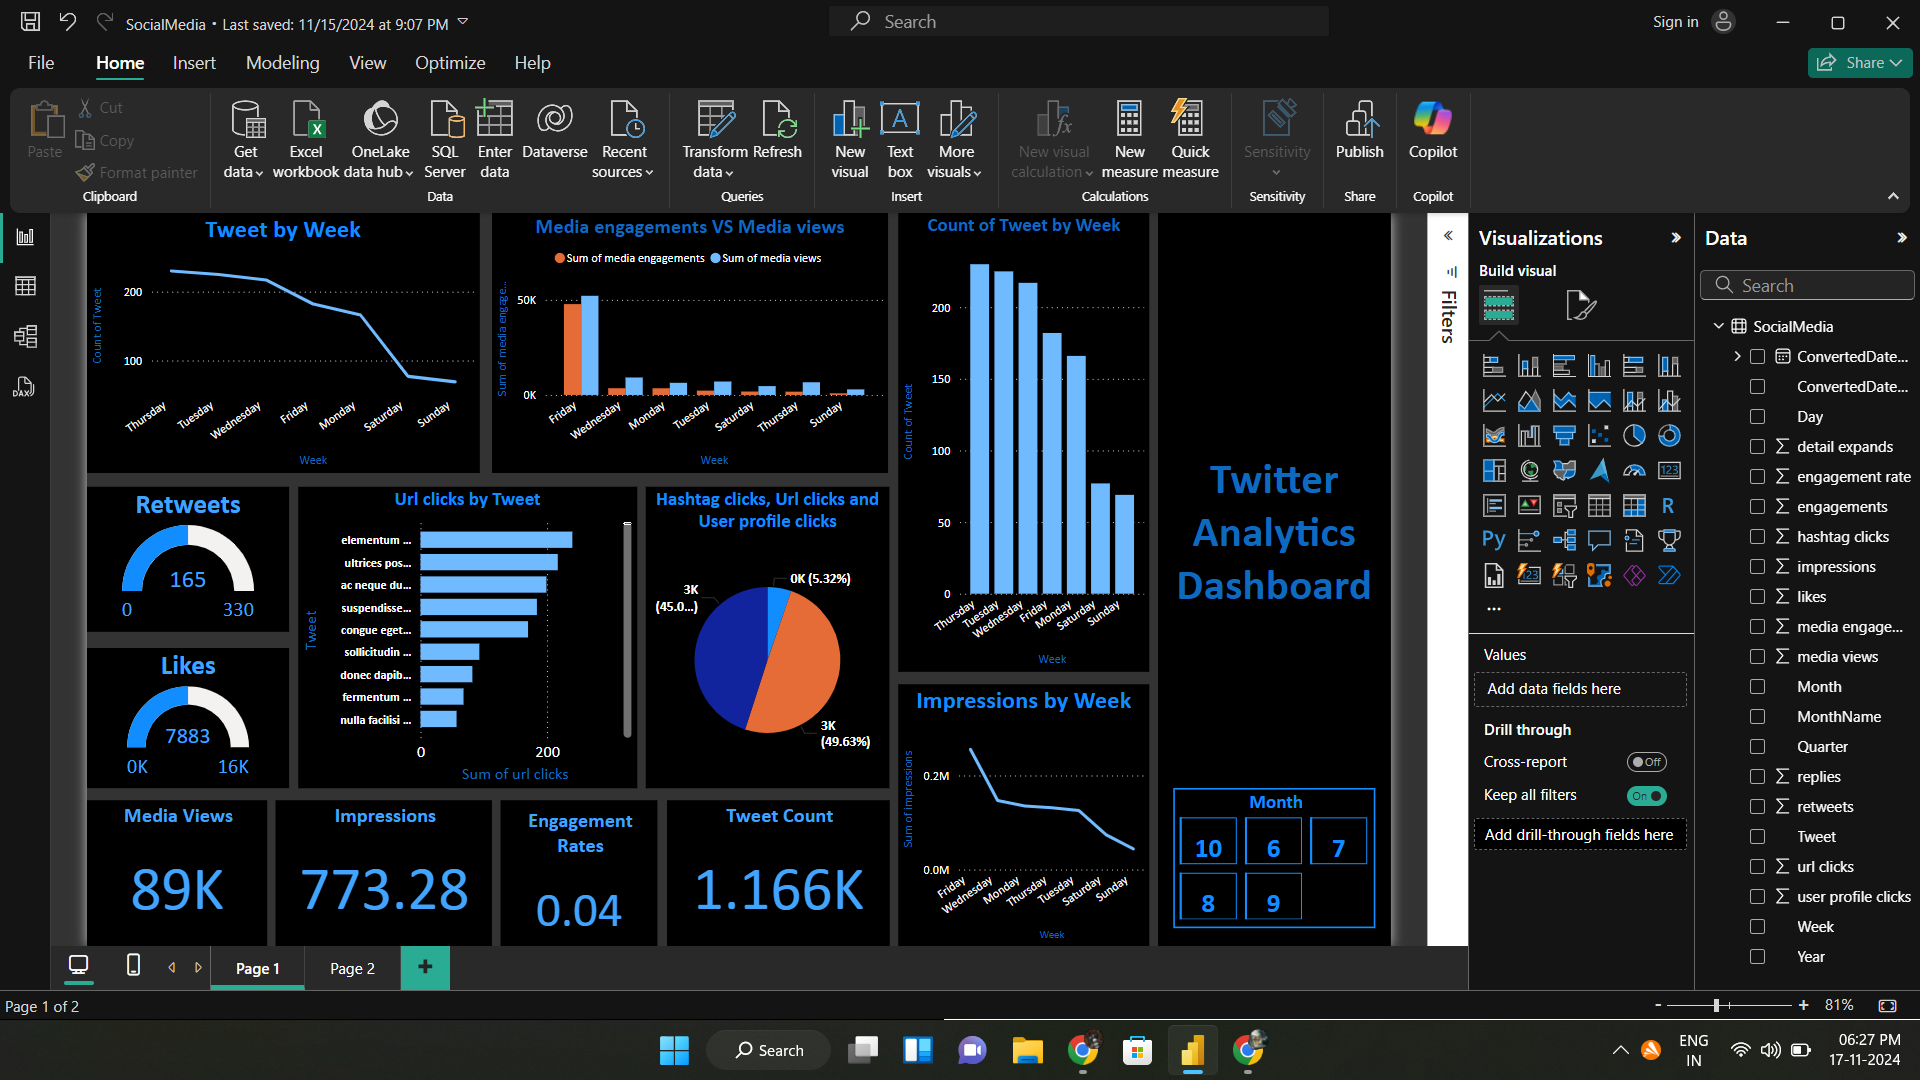

The dashboard page shown, as its layout file describes it:
{"tool":"powerbi","page":{"name":"Page 1","canvas":[1280,720],"ordinal":0},"visuals":[{"type":"textbox","box":[1051.5,0,228.2,720.2],"z":0},{"type":"cardVisual","title":"Media Views","fields":{"Data":["Sum(SocialMedia.media views)"]},"box":[0,576.7,176.7,143.6],"z":1000},{"type":"cardVisual","title":"Impressions","fields":{"Data":["CountNonNull(SocialMedia.impressions)","select"]},"box":[185.3,576.7,212.3,143.6],"z":2000},{"type":"cardVisual","title":"Engagement Rates","fields":{"Data":["Avg(SocialMedia.engagement rate)"]},"box":[406.1,576.7,153.4,143.6],"z":3000},{"type":"cardVisual","title":"Tweet Count","fields":{"Data":["CountNonNull(SocialMedia.Tweet)"]},"box":[569.3,576.7,218.4,143.6],"z":4000},{"type":"gauge","title":"Likes","fields":{"Y":["Sum(SocialMedia.likes)"]},"box":[0,427,198.8,137.4],"z":5000},{"type":"gauge","title":"Retweets","fields":{"Y":["Max(SocialMedia.retweets)"]},"box":[0,268.7,198.8,142.3],"z":6000},{"type":"slicer","title":"Month","fields":{"Values":["SocialMedia.Month"]},"box":[1066.3,479.8,198.8,84.7],"z":7000},{"type":"lineChart","title":"Tweet by Week","fields":{"Category":["SocialMedia.DayWeek"],"Y":["CountNonNull(SocialMedia.Tweet)"]},"box":[0,0,385.3,255.2],"z":8000},{"type":"lineChart","title":"Impressions by Week","fields":{"Category":["SocialMedia.DayWeek"],"Y":["Sum(SocialMedia.impressions)"]},"box":[796.3,462.6,246.6,257.7],"z":9000},{"type":"clusteredBarChart","title":"Url clicks by Tweet","fields":{"Y":["Sum(SocialMedia.url clicks)"],"Category":["SocialMedia.Tweet"]},"box":[207.4,268.7,332.5,295.7],"z":10000},{"type":"pieChart","title":"Hashtag clicks, Url clicks and User profile clicks","fields":{"Y":["Sum(SocialMedia.hashtag clicks)","Sum(SocialMedia.url clicks)","Sum(SocialMedia.user profile clicks)"]},"box":[548.5,268.7,239.3,295.7],"z":11000},{"type":"clusteredColumnChart","title":"Media engagements VS Media views ","fields":{"Category":["SocialMedia.Week"],"Y":["Sum(SocialMedia.media engagements)","Sum(SocialMedia.media views)"]},"box":[397.5,0,389,255.2],"z":12000},{"type":"clusteredColumnChart","fields":{"Category":["SocialMedia.Week"],"Y":["CountNonNull(SocialMedia.Tweet)"]},"box":[796.3,0,246.6,450.3],"z":13000}]}

Visuals, with their boxes on the page's 1280x720 design canvas (x1, y1, x2, y2). These are canvas units, not pixel positions in the 1920x1080 screenshot, which may show the page scaled, cropped or inside an application window:
textbox: <bbox>1052, 0, 1280, 720</bbox>
"Media Views" cardVisual: <bbox>0, 577, 177, 720</bbox>
"Impressions" cardVisual: <bbox>185, 577, 398, 720</bbox>
"Engagement Rates" cardVisual: <bbox>406, 577, 560, 720</bbox>
"Tweet Count" cardVisual: <bbox>569, 577, 788, 720</bbox>
"Likes" gauge: <bbox>0, 427, 199, 564</bbox>
"Retweets" gauge: <bbox>0, 269, 199, 411</bbox>
"Month" slicer: <bbox>1066, 480, 1265, 564</bbox>
"Tweet by Week" lineChart: <bbox>0, 0, 385, 255</bbox>
"Impressions by Week" lineChart: <bbox>796, 463, 1043, 720</bbox>
"Url clicks by Tweet" clusteredBarChart: <bbox>207, 269, 540, 564</bbox>
"Hashtag clicks, Url clicks and User profile clicks" pieChart: <bbox>548, 269, 788, 564</bbox>
"Media engagements VS Media views " clusteredColumnChart: <bbox>398, 0, 786, 255</bbox>
clusteredColumnChart - SocialMedia.Week x CountNonNull(SocialMedia.Tweet): <bbox>796, 0, 1043, 450</bbox>
